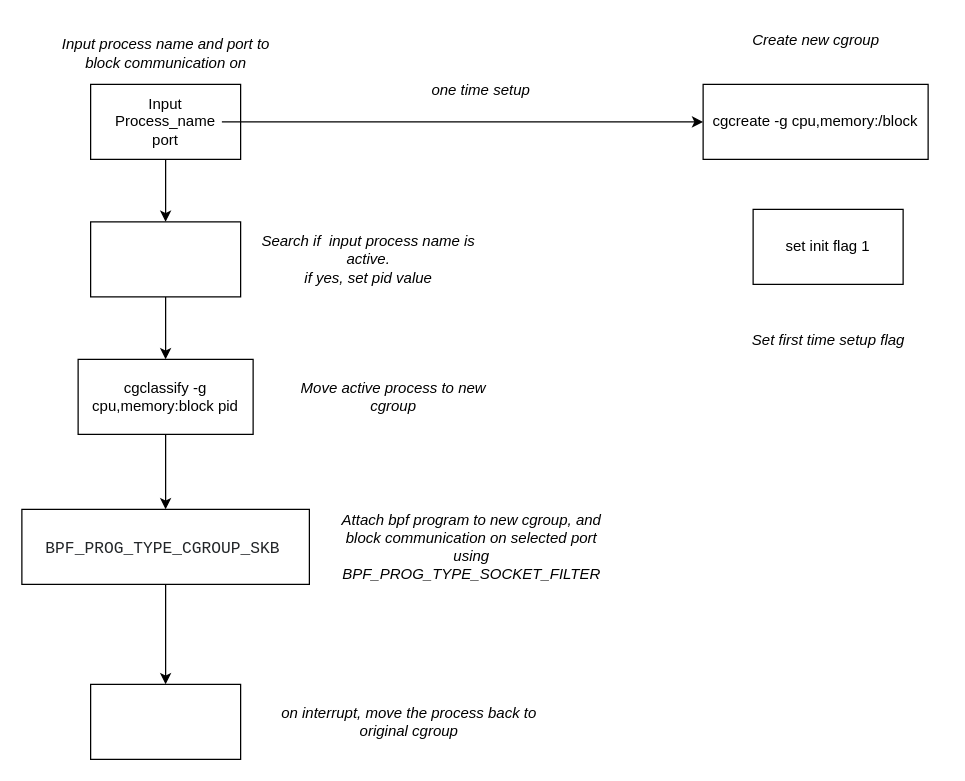
The diagram is 965 pixels wide and 781 high, and some of its shapes have lost their labels. Here are the shapes that lost their labels. From the top down, the centre of each, then its label:
At point 165,259: "ps".
At point 165,721: "cgclassify -g".
